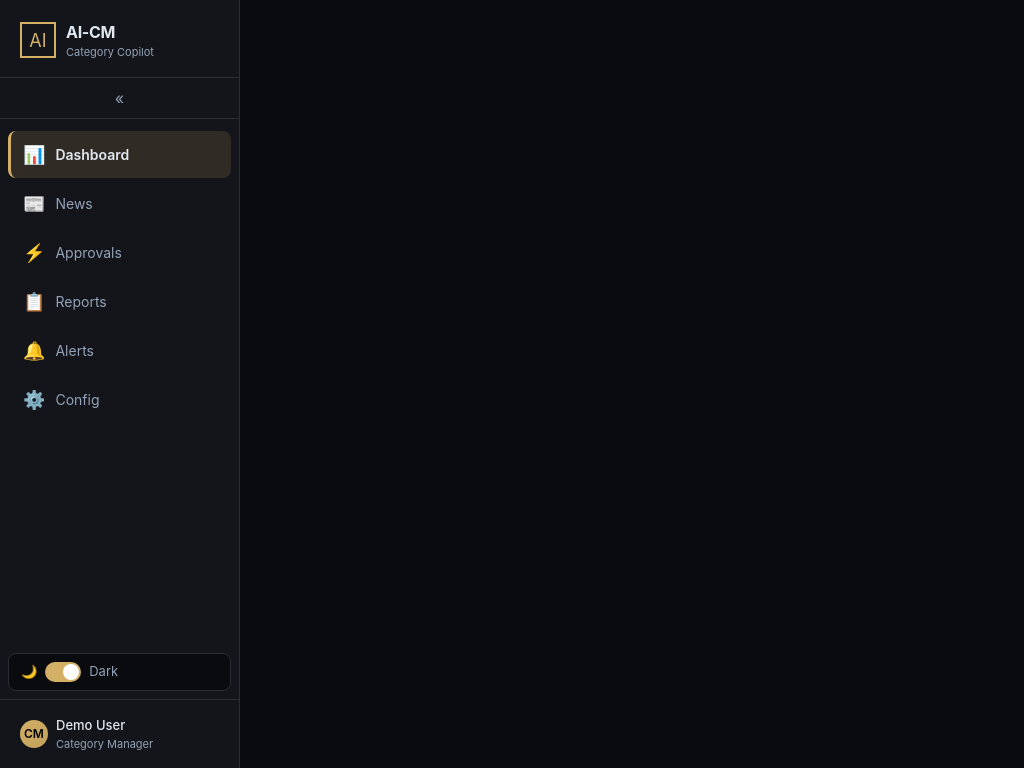
Test case: Sidebar › toggles theme when theme button is clicked
The width and height of the screenshot is (1024, 768).
expect the text "🌙" is shown: met, box [21, 662, 37, 682]
# Click the parent theme toggle button
Click the button "🌙 Dark": [120, 672] box [8, 653, 231, 691]
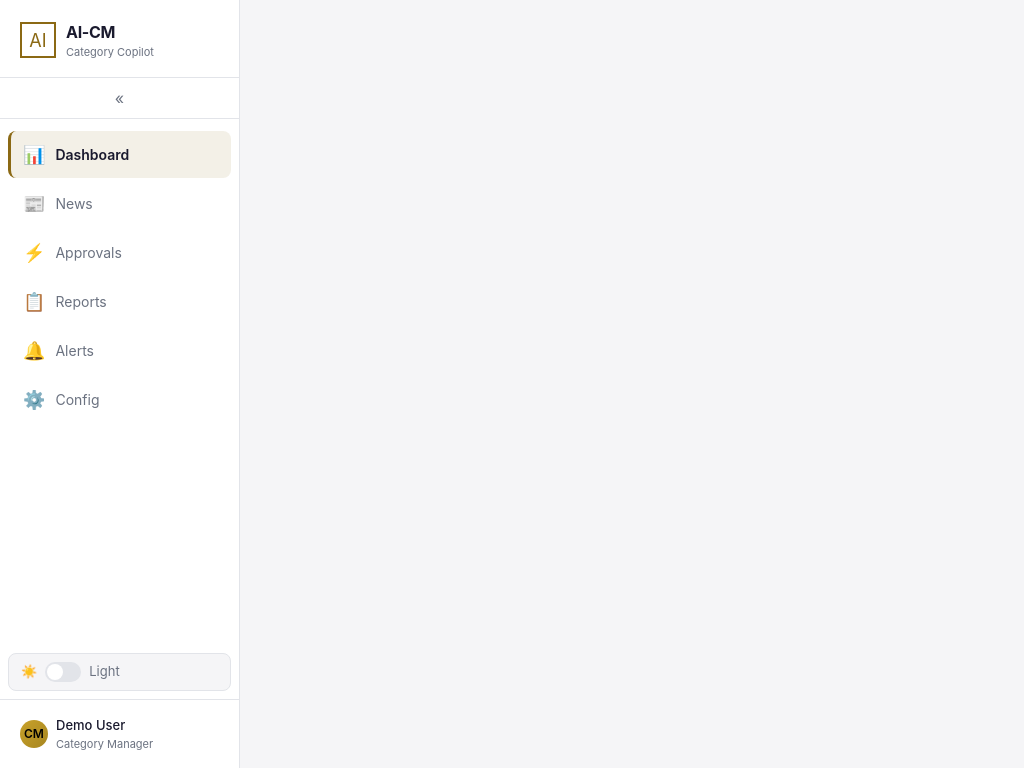
expect the text "☀️" is shown: met, box [21, 662, 37, 682]
